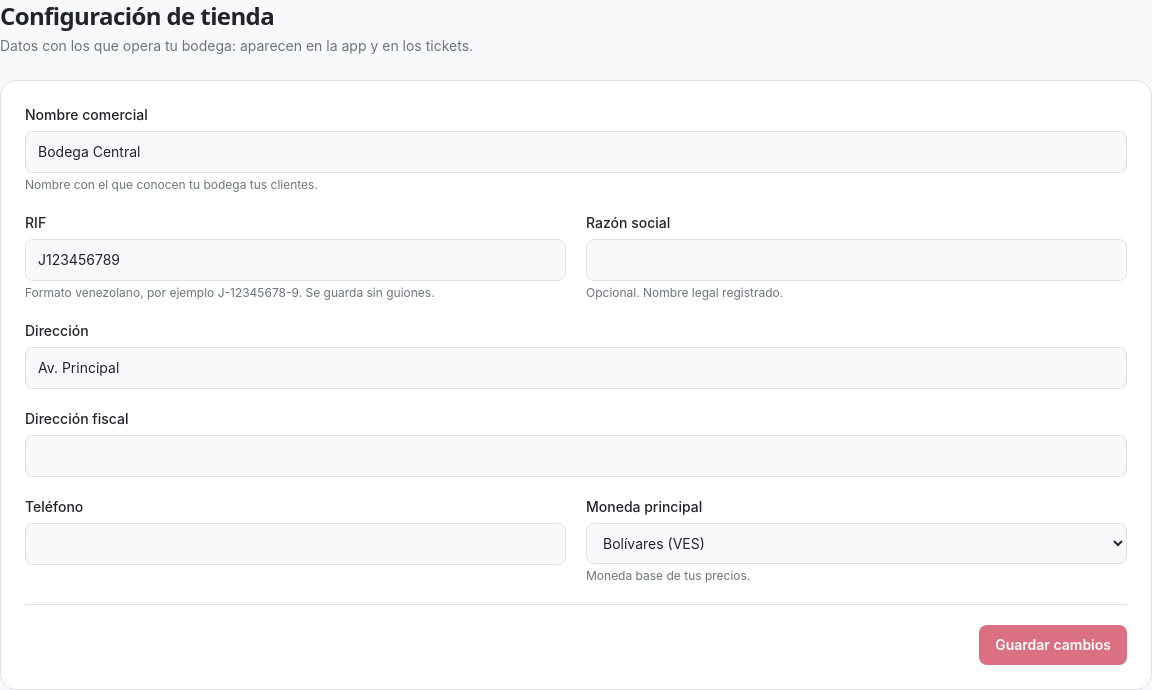
Scenario: ConfiguracionTiendaPage › saves via PUT with a normalized payload and shows a success banner
Expected: the field labelled "Nombre comercial" holds "Bodega Central", [25,131,1127,173]
Type "02125551122" into the field labelled "Teléfono". click: coordinates (296, 544)
box: [25,523,566,565]
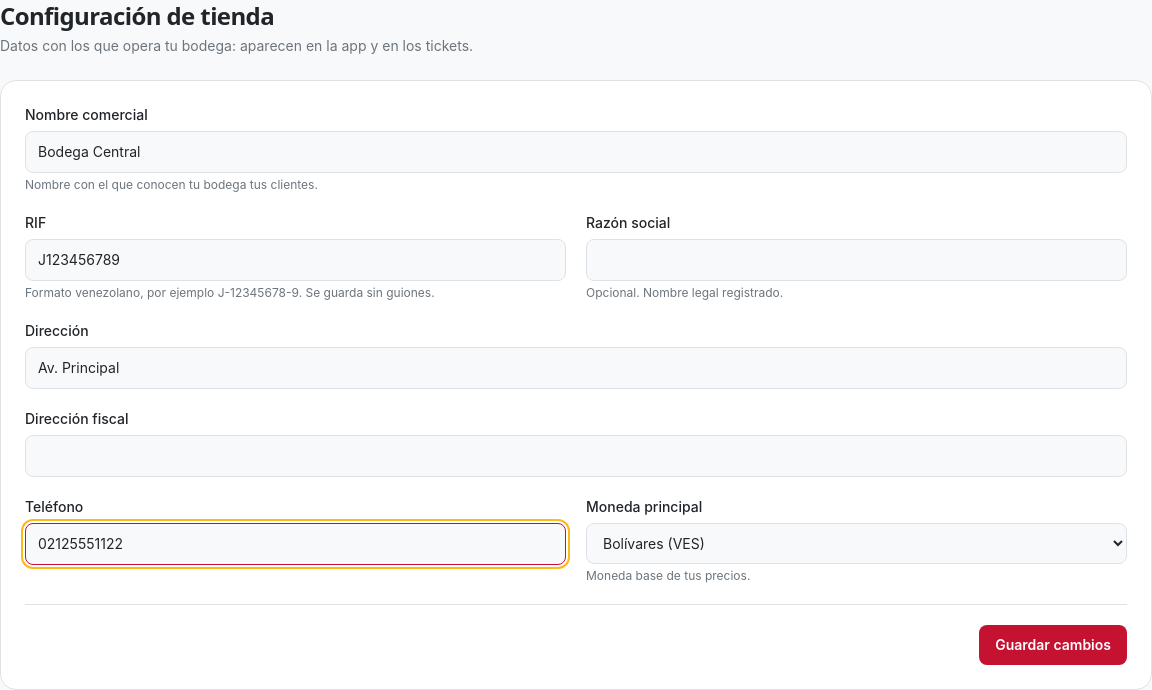
Click the button "Guardar cambios". click: coordinates (1053, 645)
box: [979,625,1127,665]
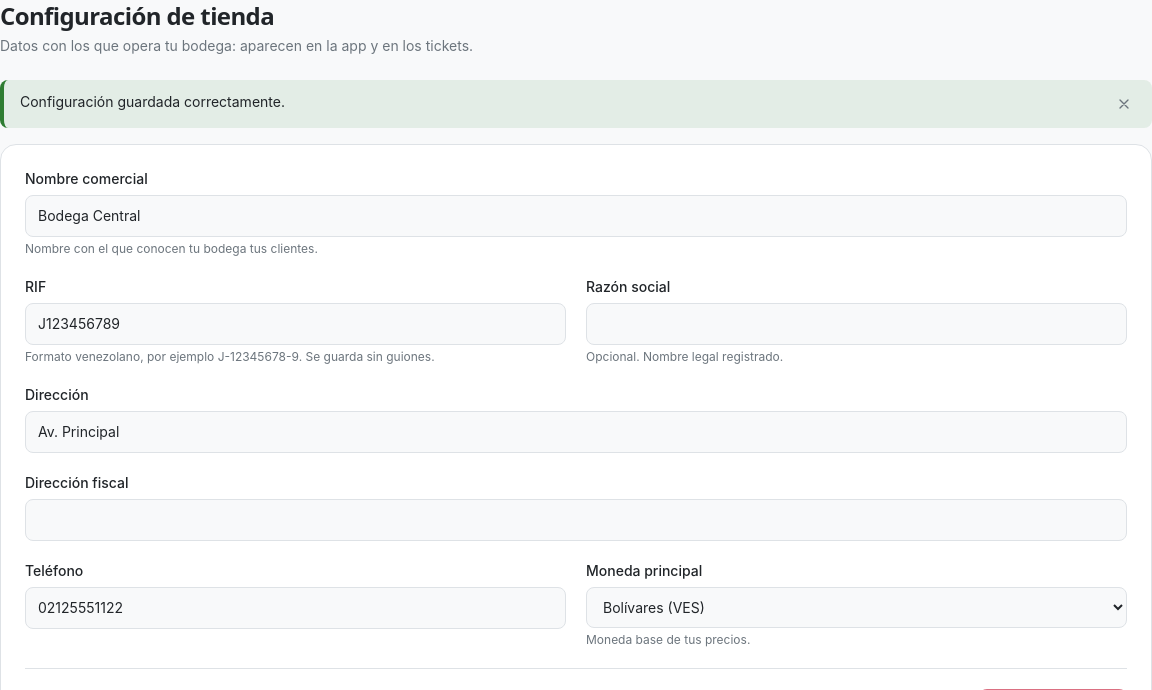
Expected: the text "Configuración guardada correctamente." is shown, [20,92,285,112]
